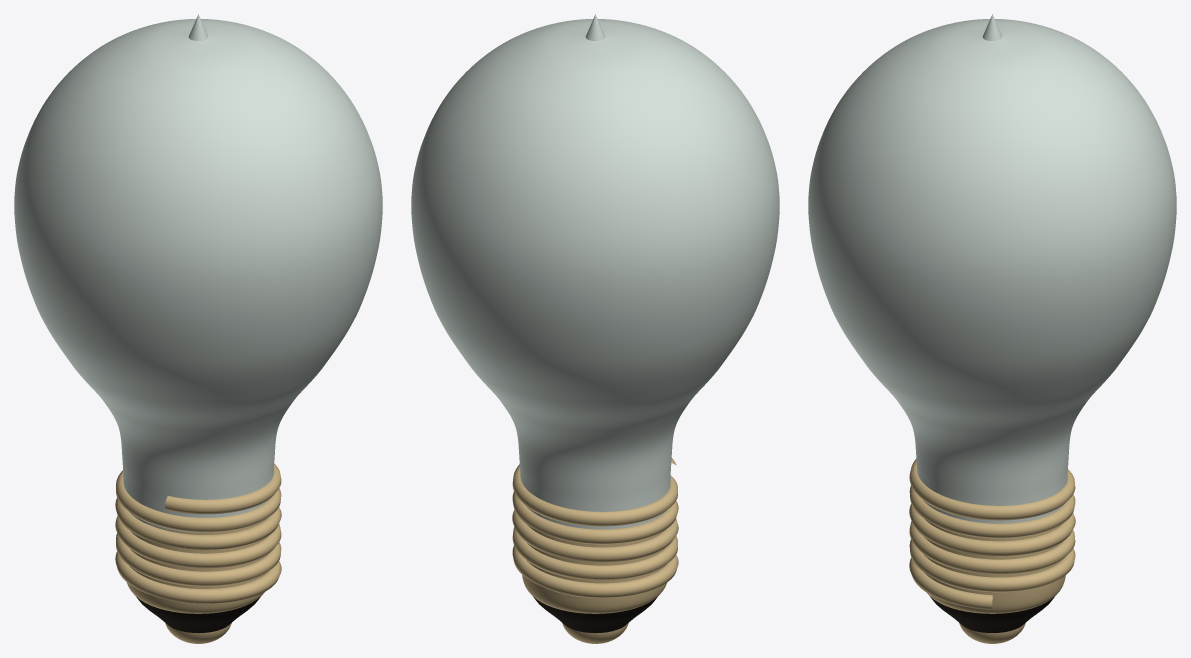
File: light-bulb.glb
3 renders of one model, left to right at view 1: azimuth 30°, elevation 25°; view 2: azimuth 150°, elevation 25°; view 3: azimuth 270°, elevation 25°, orthographic.
Visible parts, largest first — view 1: glass_envelope, thread, screw_shell, insulator_ring, foot_contact; view 2: glass_envelope, thread, screw_shell, insulator_ring, foot_contact; view 3: glass_envelope, thread, screw_shell, insulator_ring, foot_contact.
Part boxes in pixels (<box>): glass_envelope: <box>14,19,382,532</box>; thread: <box>115,464,281,603</box>; screw_shell: <box>127,517,269,613</box>; insulator_ring: <box>136,596,260,633</box>; foot_contact: <box>165,623,231,643</box>; glass_envelope: <box>411,19,779,529</box>; thread: <box>512,458,678,597</box>; screw_shell: <box>522,525,666,613</box>; insulator_ring: <box>533,596,657,633</box>; foot_contact: <box>562,623,628,643</box>; glass_envelope: <box>808,19,1176,523</box>; thread: <box>909,459,1075,609</box>; screw_shell: <box>923,519,1065,613</box>; insulator_ring: <box>930,596,1054,632</box>; foot_contact: <box>959,623,1025,643</box>.
Bounding box in the file's own units: 0.0602 × 0.1129 × 0.0602.
